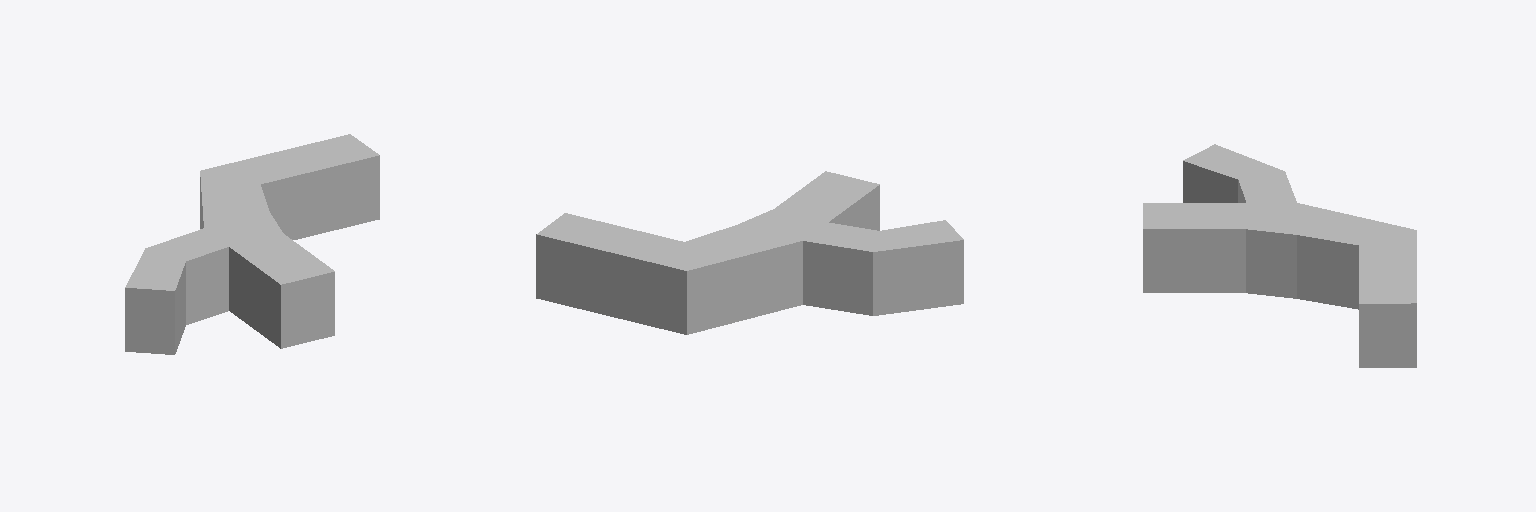
File: Pipe7.obj
3 views of the same model, side by side, from view 1: azimuth 30°, elevation 25°; view 2: azimuth 150°, elevation 25°; view 3: azimuth 270°, elevation 25° (orthographic).
Parts seen in each view (by area): view 1: Pipe7; view 2: Pipe7; view 3: Pipe7.
Part boxes in pixels (x1,y1,x2,y2): Pipe7: (125,134,379,354); Pipe7: (536,171,963,334); Pipe7: (1143,144,1416,367).
Bounding box in the file's own units: 5.34 × 1 × 3.88.